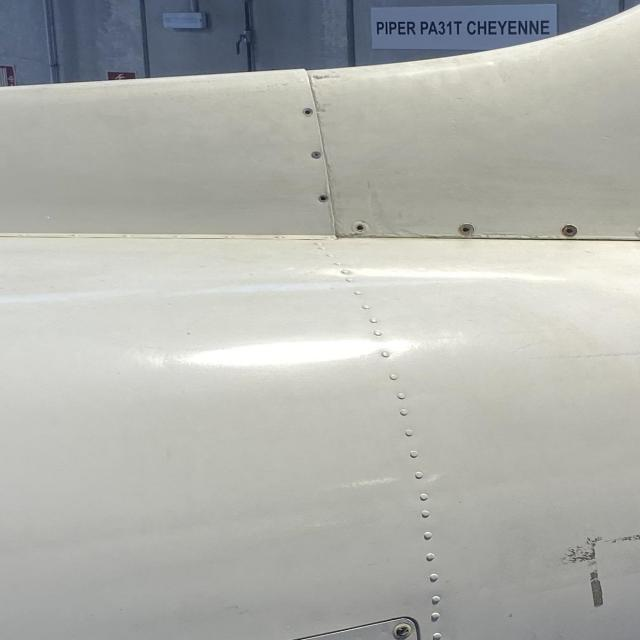Missing-head: (458, 223, 474, 235), (562, 225, 577, 236), (300, 105, 312, 116), (353, 223, 364, 234), (317, 194, 329, 203), (636, 227, 640, 235)
